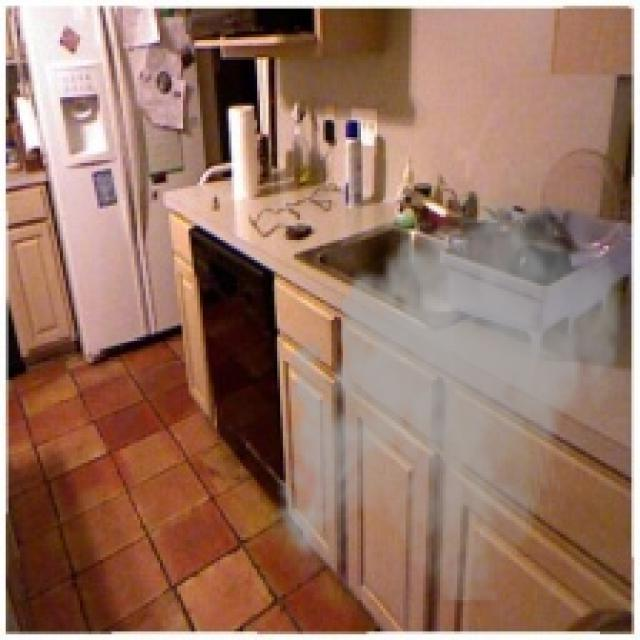Smoke: (266, 180, 632, 606)
